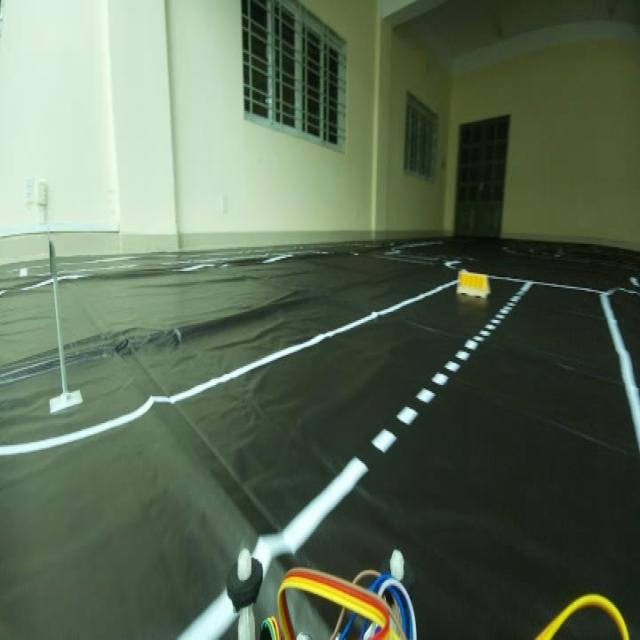roadblock: (452, 256, 492, 306)
